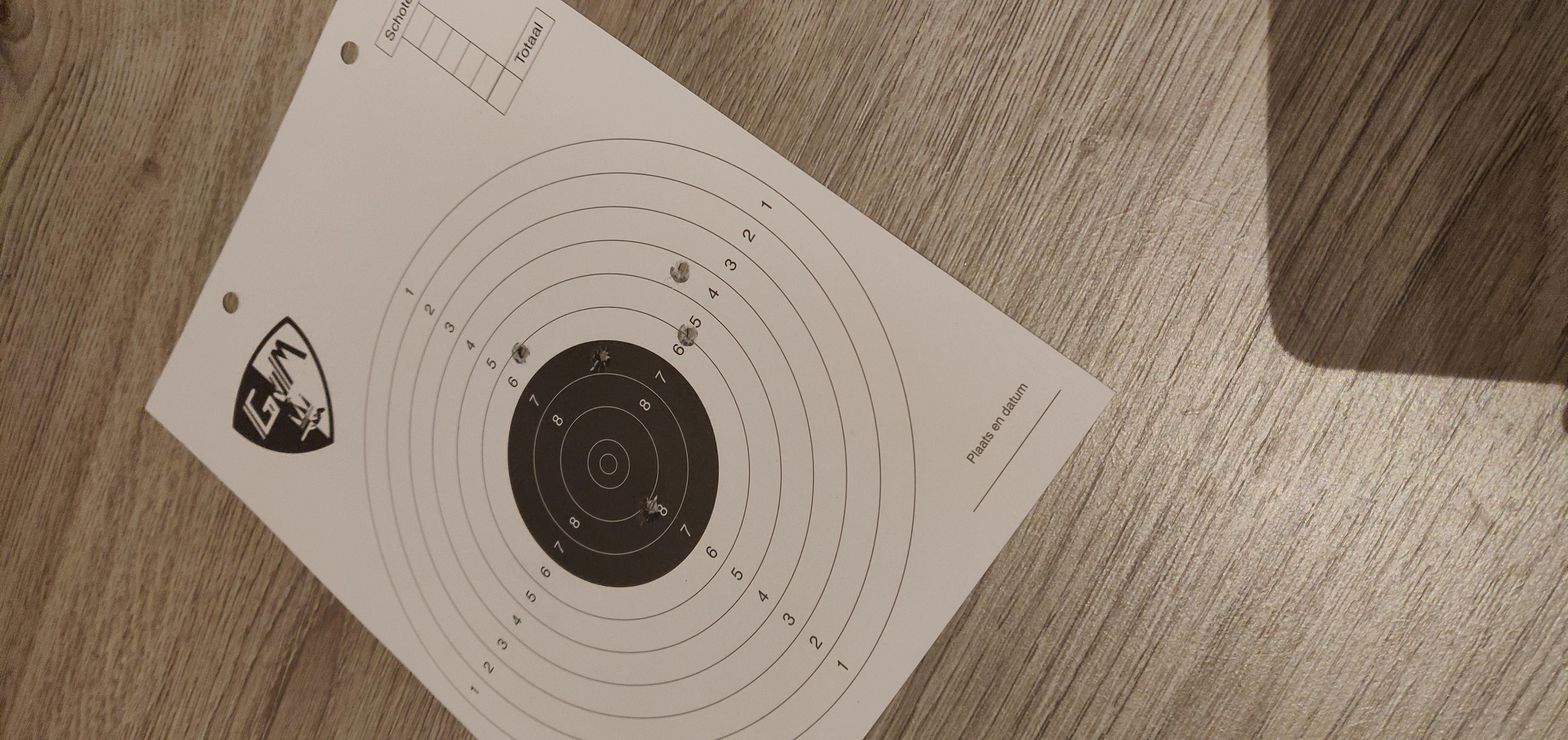hole: (448, 301, 519, 311), (964, 315, 1022, 327), (777, 278, 838, 289), (832, 319, 883, 330), (794, 241, 845, 251)
